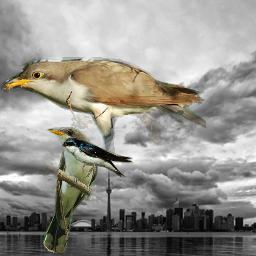Cuckoo: (1, 57, 206, 154), (43, 127, 98, 253)
Swallow: (62, 137, 135, 180)
